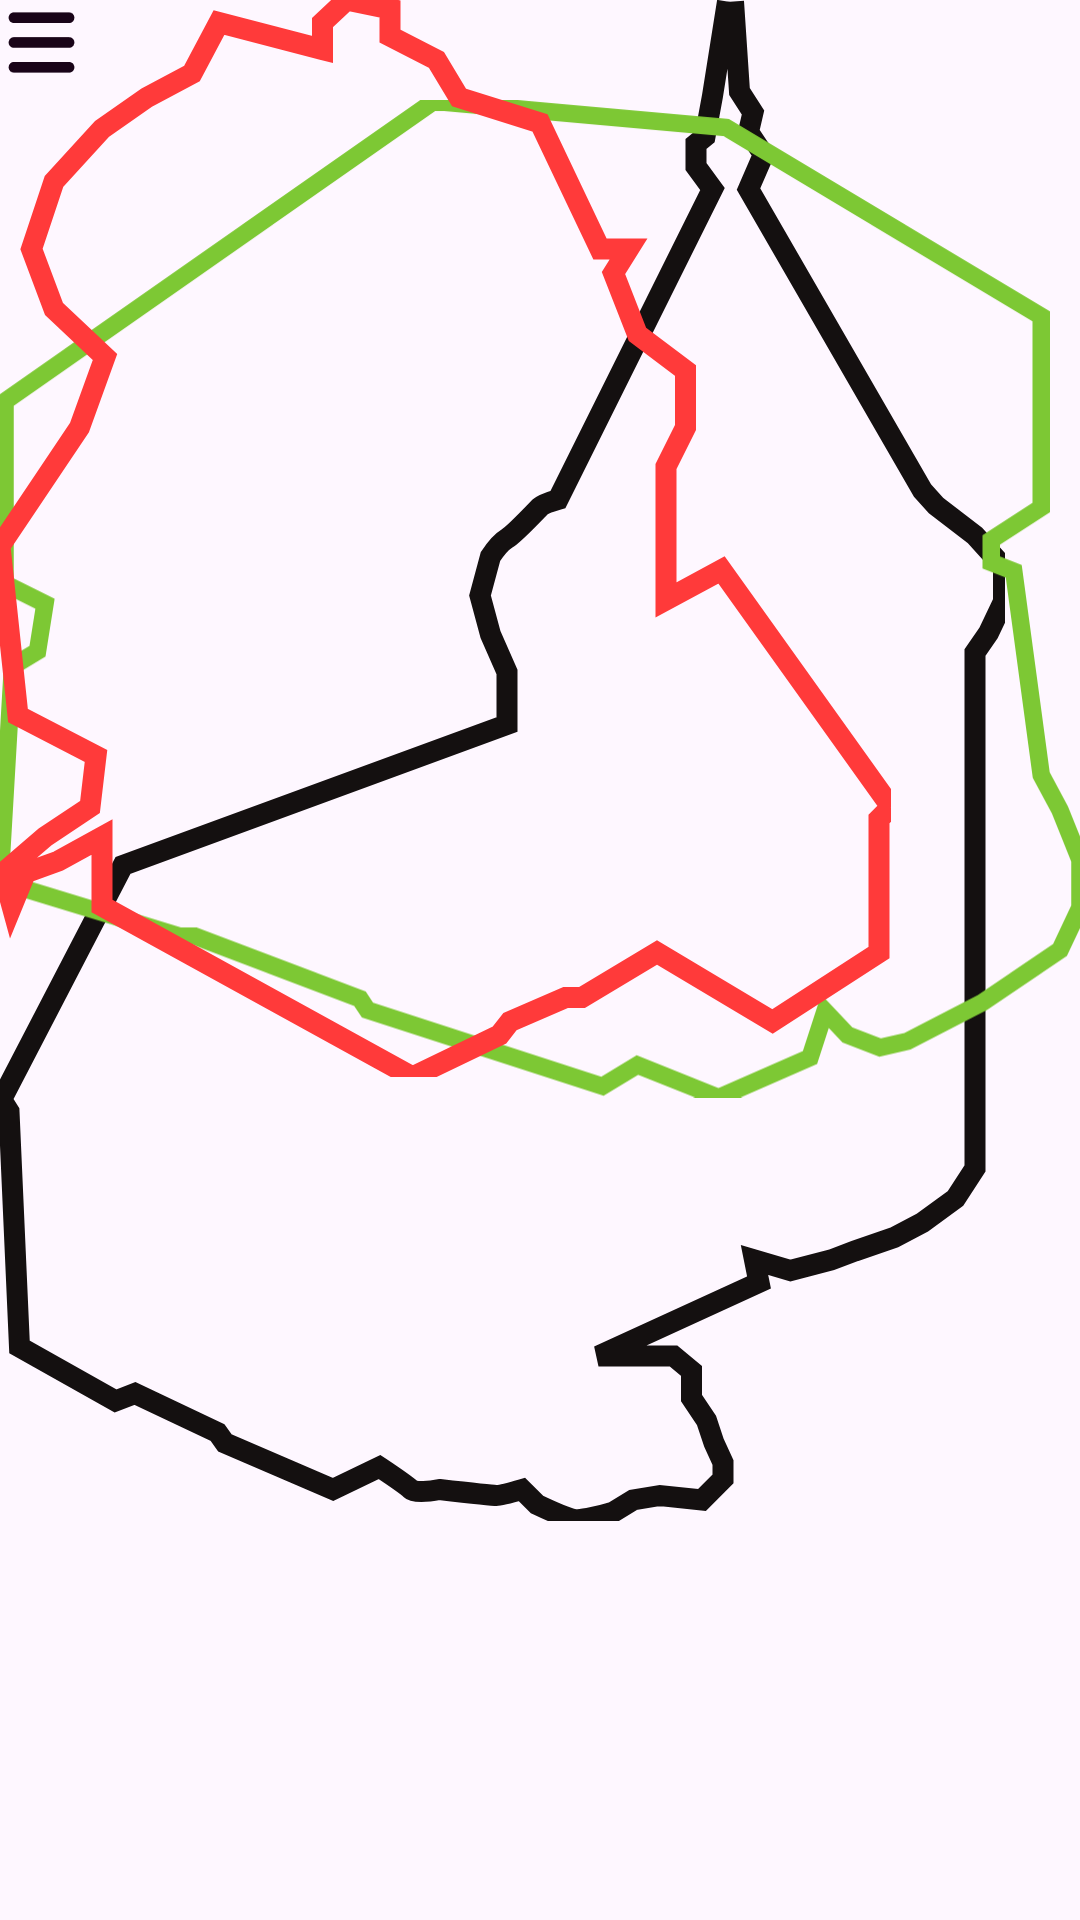

Point at icon controls on the screen. Image size 1080*1920, points as (x=x, y=y).
mingcute menu: (x=41, y=42)
